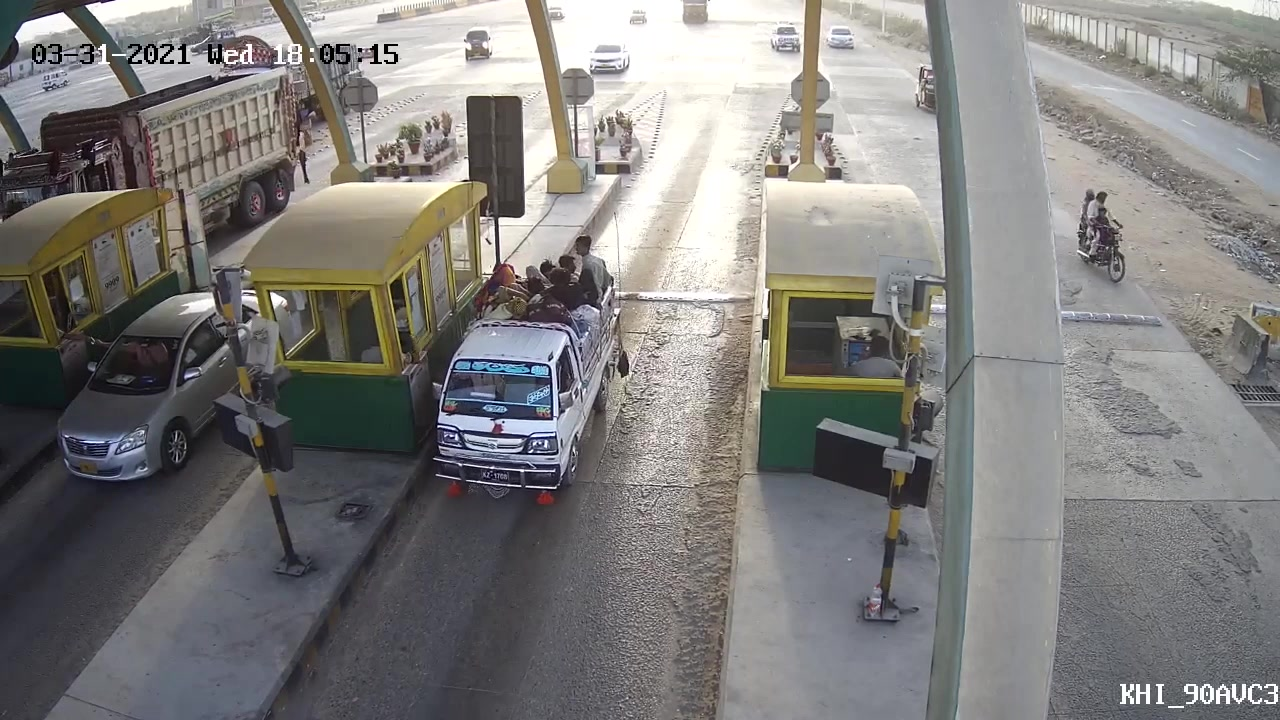F2: (418, 233, 629, 511)
